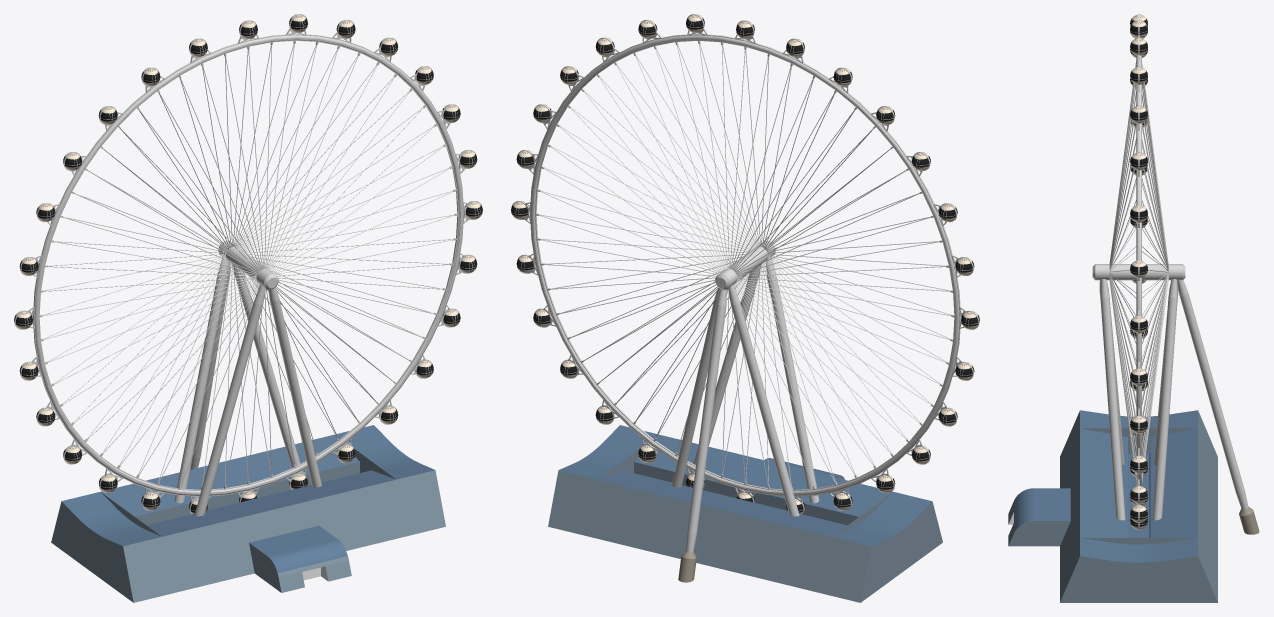
The model's file is roda_gigante_inteira.obj.
3 views of the same model, side by side, from view 1: azimuth 30°, elevation 25°; view 2: azimuth 150°, elevation 25°; view 3: azimuth 270°, elevation 25° (orthographic). The views are drawn at different scales.
Visible parts, largest first — view 1: Nimbasa_City.001; view 2: Nimbasa_City.001; view 3: Nimbasa_City.001.
Boxes of the visible parts, x1,y1,x2,y2 form: Nimbasa_City.001: (14, 14, 482, 602); Nimbasa_City.001: (511, 14, 979, 602); Nimbasa_City.001: (1008, 14, 1259, 602).
Size of the model in its own units: 13.88 by 14.62 by 6.74.
